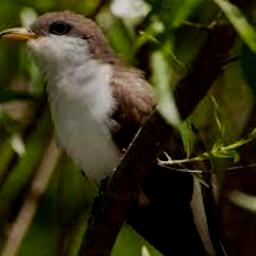Cuckoo: (0, 10, 255, 256)
